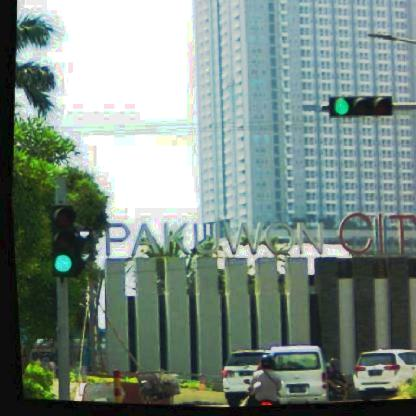Traffic Light -Green-: (43, 204, 76, 278), (325, 96, 393, 123)
